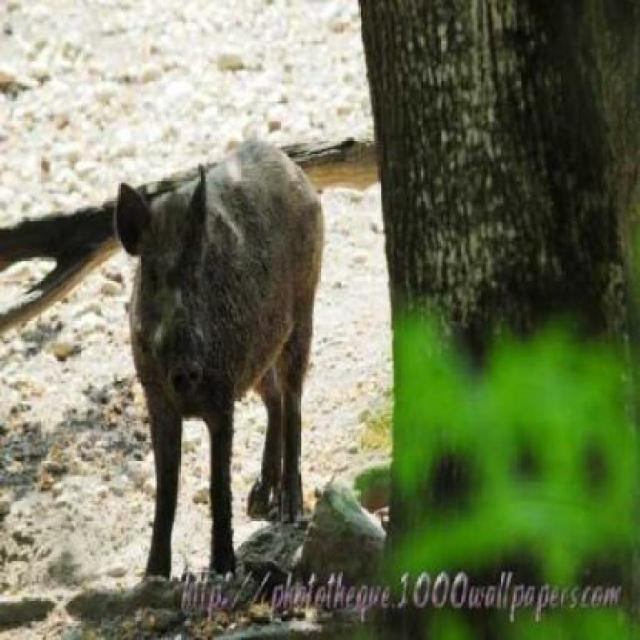pig: (68, 80, 349, 518)
